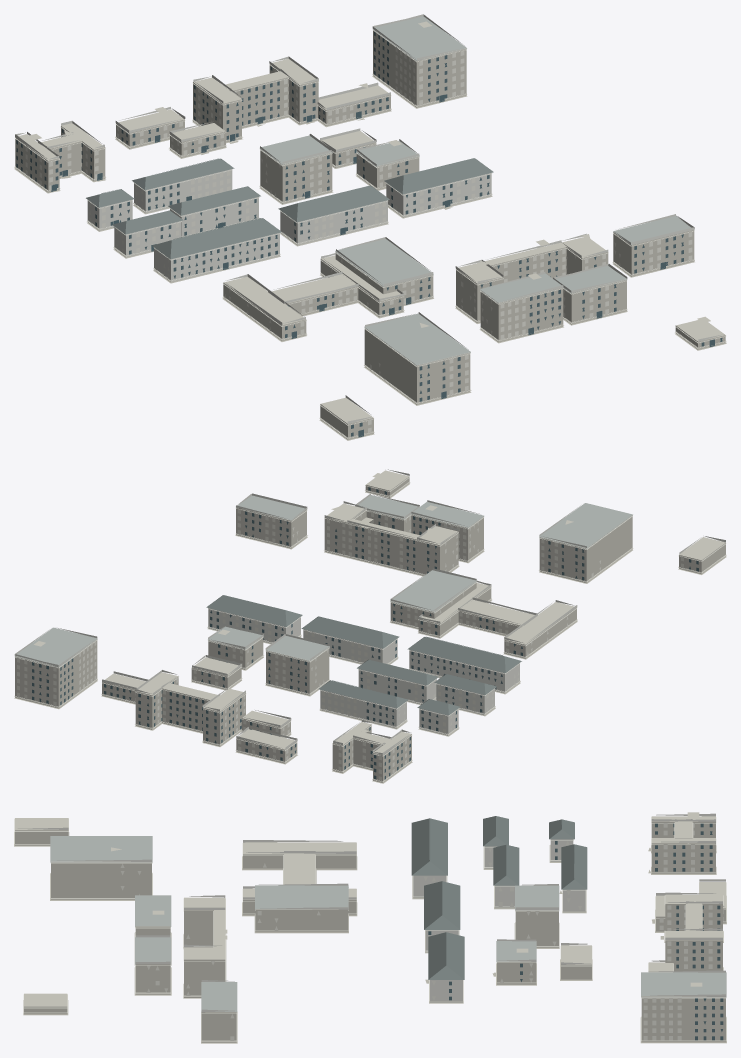
The model's file is shared-04-medium.glb.
3 views of the same model, one above another, from view 1: azimuth 30°, elevation 25°; view 2: azimuth 150°, elevation 25°; view 3: azimuth 270°, elevation 25° (orthographic). The views are drawn at different scales.
Parts seen in each view (by area): view 1: Weathered flat roof details.004, Window frames and coping details.004, Dark blue grey glazing details.004, Pale limestone details.004, Walkway stone details.004, 新闻学院办公楼.001, 国定路教师公寓.001, 综合楼.001, 燕园宾馆 17号楼.001, 东区学生公寓.001, 锅炉房 · 西翼.001, 新闻学院教学楼.001 (+33 smaller); view 2: Weathered flat roof details.004, Window frames and coping details.004, Pale limestone details.004, Dark blue grey glazing details.004, Walkway stone details.004, 新闻学院办公楼.001, 国定路教师公寓.001, 新闻学院北楼 · 横楼.001, 东区学生公寓.001, 锅炉房 · 西翼.001, 燕园宾馆 17号楼.001, 新闻学院教学楼.001 (+33 smaller); view 3: Weathered flat roof details.004, Window frames and coping details.004, 新闻学院办公楼.001, Pale limestone details.004, 国定路教师公寓.001, Walkway stone details.004, 锅炉房 · 西翼.001, 演播厅.001, 燕园宾馆 17号楼 hipped tiled roof.001, 正大中心西侧楼 · 东翼.001, 正大管理发展中心 · 东翼.001, 燕园宾馆 18号楼 hipped tiled roof.001 (+27 smaller).
Boxes of the visible parts, bbox=[...] form: Weathered flat roof details.004: bbox=[259, 16, 691, 365]; Window frames and coping details.004: bbox=[14, 30, 725, 438]; Dark blue grey glazing details.004: bbox=[16, 32, 722, 437]; Pale limestone details.004: bbox=[15, 14, 723, 423]; Walkway stone details.004: bbox=[14, 74, 726, 440]; 新闻学院办公楼.001: bbox=[364, 327, 470, 404]; 国定路教师公寓.001: bbox=[373, 30, 466, 107]; 综合楼.001: bbox=[480, 287, 563, 342]; 燕园宾馆 17号楼.001: bbox=[154, 233, 279, 282]; 东区学生公寓.001: bbox=[260, 149, 332, 203]; 锅炉房 · 西翼.001: bbox=[223, 276, 306, 340]; 新闻学院教学楼.001: bbox=[613, 230, 694, 276]; Weathered flat roof details.004: bbox=[15, 495, 632, 667]; Window frames and coping details.004: bbox=[14, 477, 726, 781]; Pale limestone details.004: bbox=[14, 469, 725, 754]; Dark blue grey glazing details.004: bbox=[32, 487, 698, 779]; Walkway stone details.004: bbox=[14, 482, 726, 783]; 新闻学院办公楼.001: bbox=[539, 515, 632, 582]; 国定路教师公寓.001: bbox=[15, 639, 97, 708]; 新闻学院北楼 · 横楼.001: bbox=[347, 519, 421, 573]; 东区学生公寓.001: bbox=[266, 647, 329, 695]; 锅炉房 · 西翼.001: bbox=[504, 602, 576, 658]; 燕园宾馆 17号楼.001: bbox=[409, 649, 519, 693]; 新闻学院教学楼.001: bbox=[236, 507, 306, 548]; Weathered flat roof details.004: bbox=[50, 836, 726, 1012]; Window frames and coping details.004: bbox=[14, 817, 726, 1041]; 新闻学院办公楼.001: bbox=[51, 861, 151, 899]; Pale limestone details.004: bbox=[18, 813, 725, 1012]; 国定路教师公寓.001: bbox=[641, 996, 725, 1042]; Walkway stone details.004: bbox=[14, 832, 726, 1043]; 锅炉房 · 西翼.001: bbox=[243, 842, 356, 869]; 演播厅.001: bbox=[255, 909, 348, 932]; 燕园宾馆 17号楼 hipped tiled roof.001: bbox=[411, 818, 447, 875]; 正大中心西侧楼 · 东翼.001: bbox=[651, 838, 715, 873]; 正大管理发展中心 · 东翼.001: bbox=[665, 931, 722, 971]; 燕园宾馆 18号楼 hipped tiled roof.001: bbox=[424, 881, 460, 929].
Bounding box in the file's own units: 193 × 22.36 × 276.
